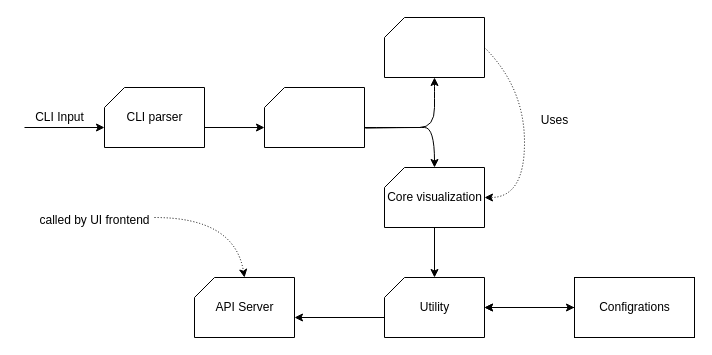
Image size: 712x355. Some labels were removed from this diagram. The shapes that lost their labels are listed below. From the top down, each one's centre as x and y in pixels, then its label:
At pixel 434 47: "UI frontend".
At pixel 314 117: "CLI dispatcher".
